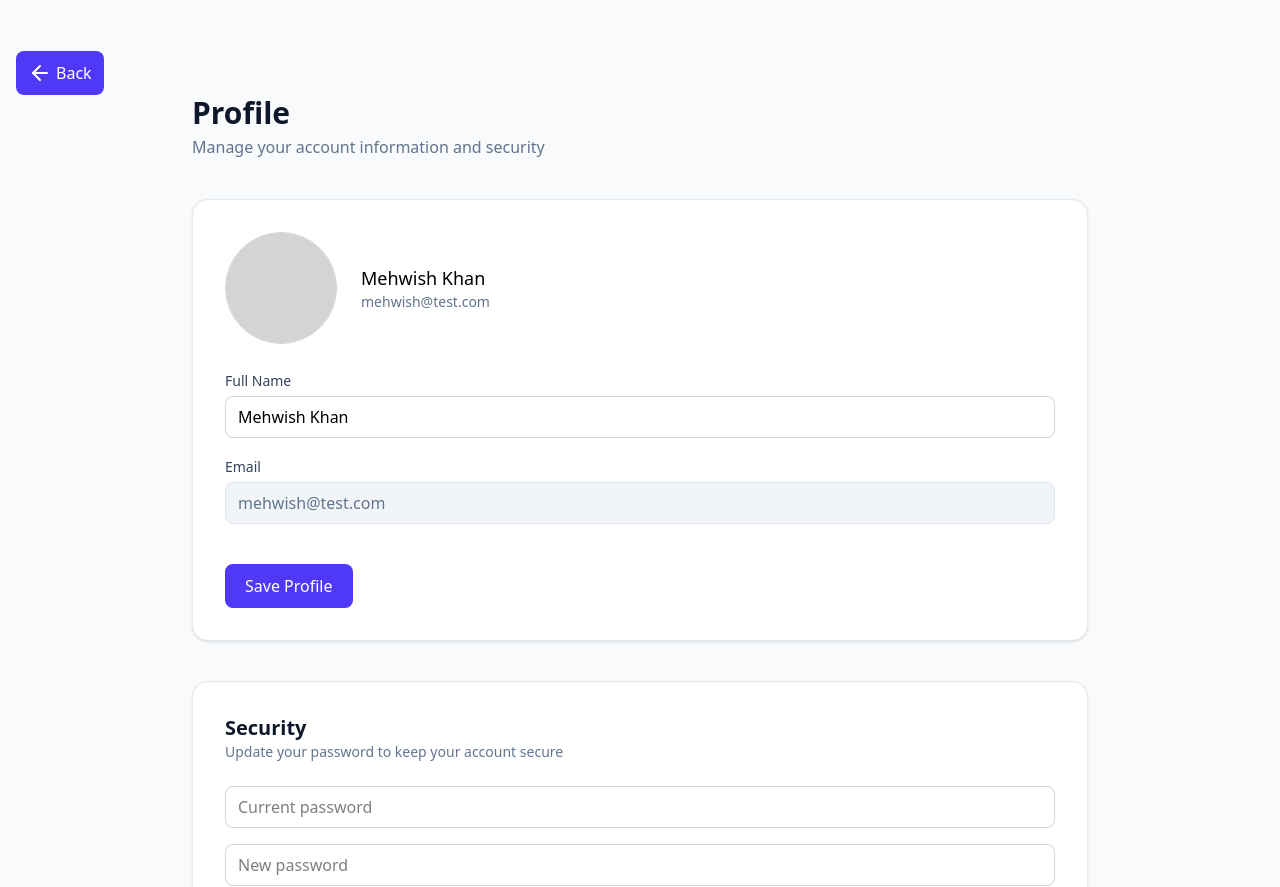
it: Profile Component › shows error if profile update fails
The image size is (1280, 887).
Expected: the heading "Mehwish Khan" is shown, [361,264,490,292]
Click the button "Save Profile".
click(289, 586)  # box [225,564,352,608]
(page scrolled)
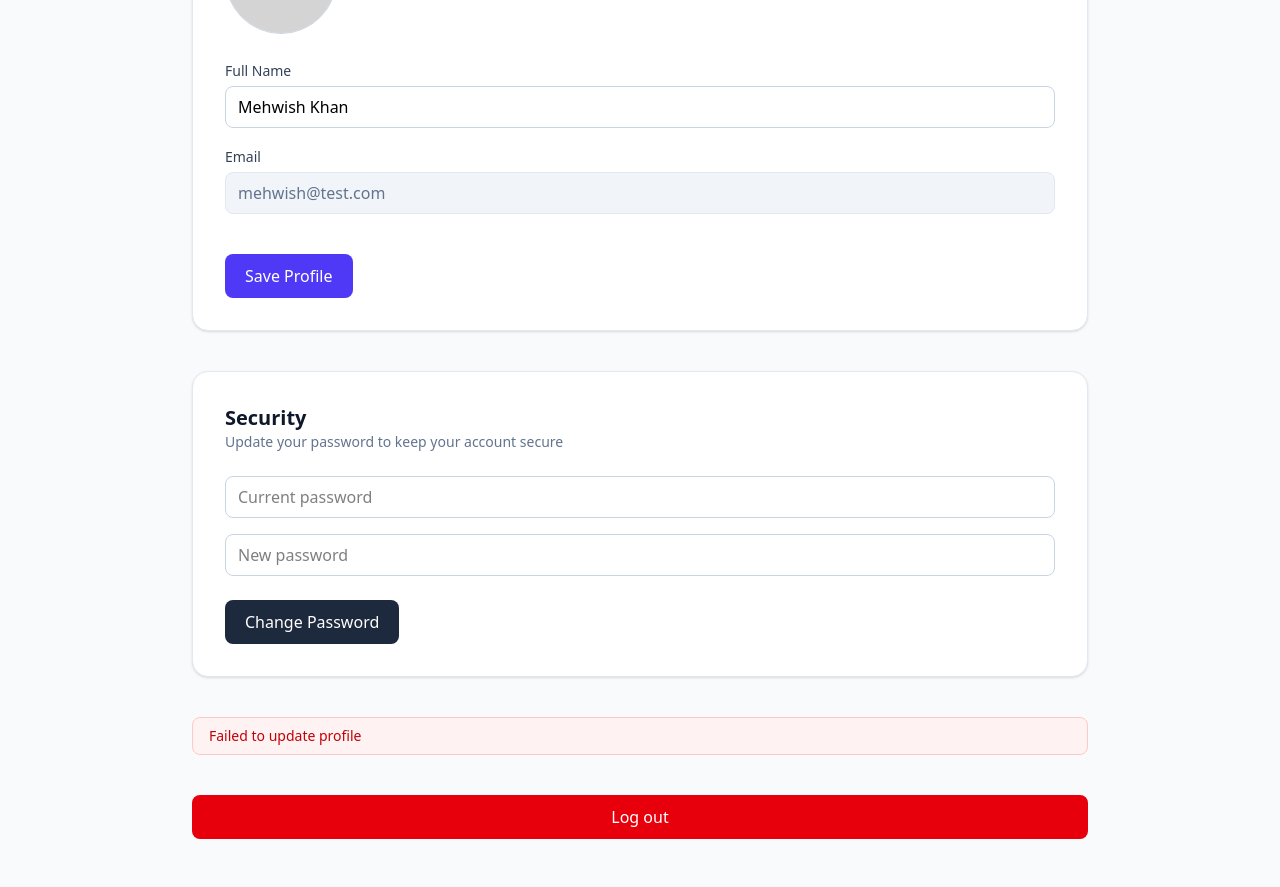
Result: the text "Failed to update profile" is shown at [192,717,1088,755]
